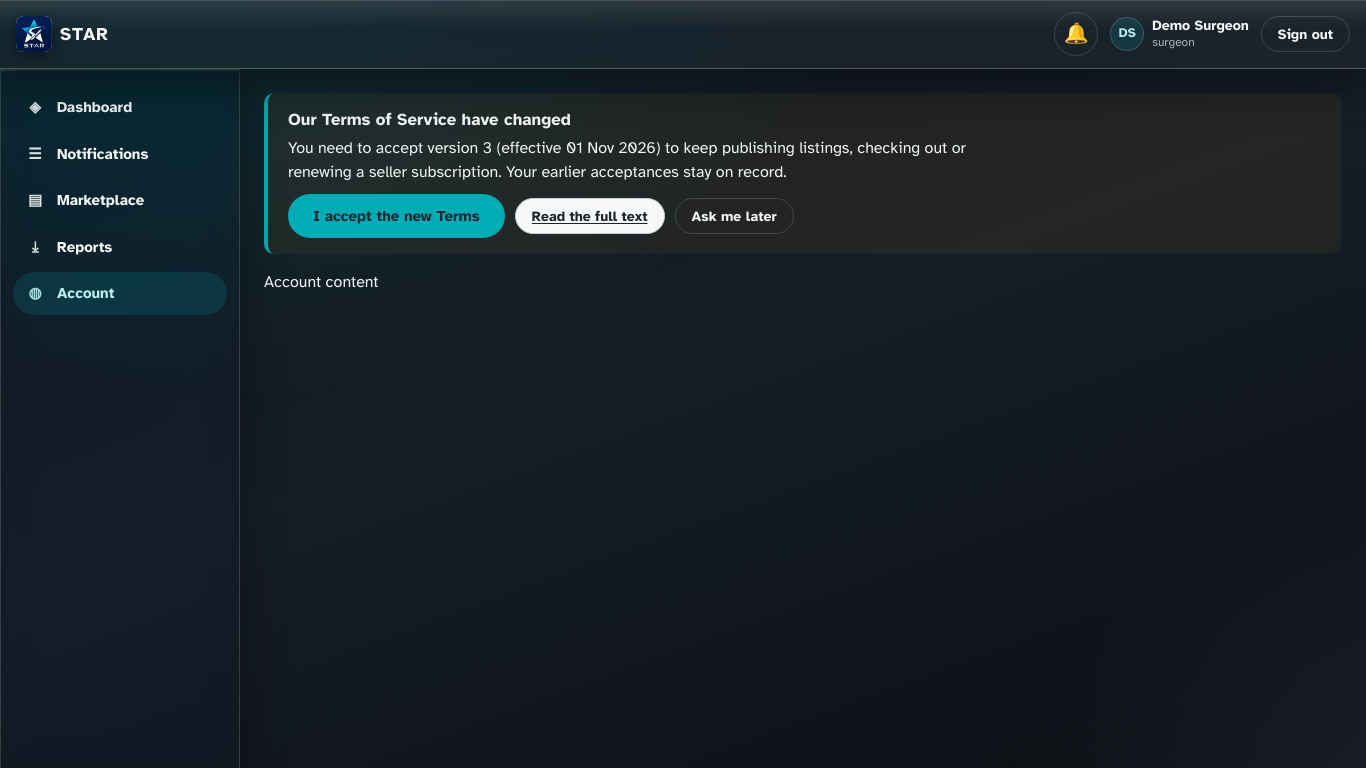
Test: TermsUpdateBanner › accepts the published version and disappears once the server agrees
Expected: the element "Terms of Service have changed" shows "version 3", left=428, top=138, right=492, bottom=158
Click the button "I accept the new Terms" at (396, 216), box left=288, top=194, right=505, bottom=238
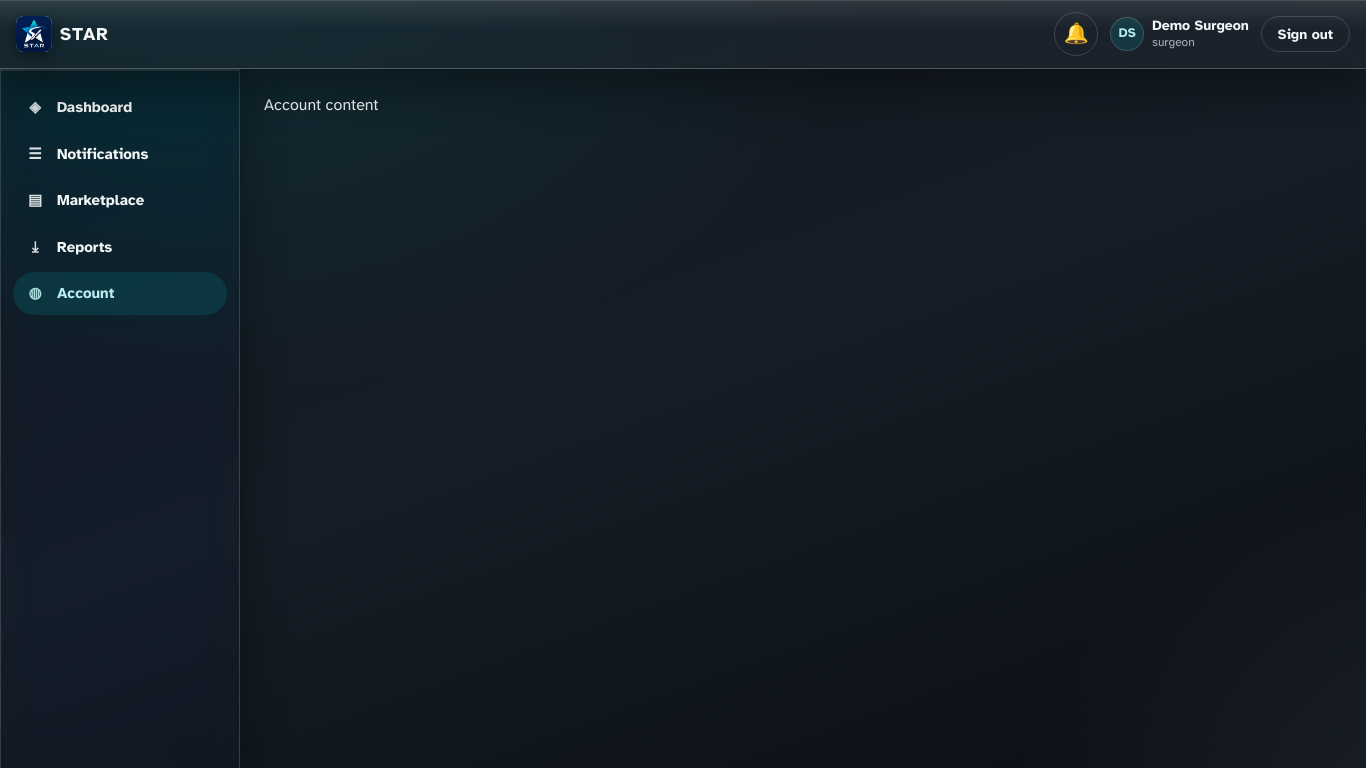
Expected: the text "Account content" is shown, left=264, top=95, right=378, bottom=115
Result: the heading "Terms of Service have changed" is gone
